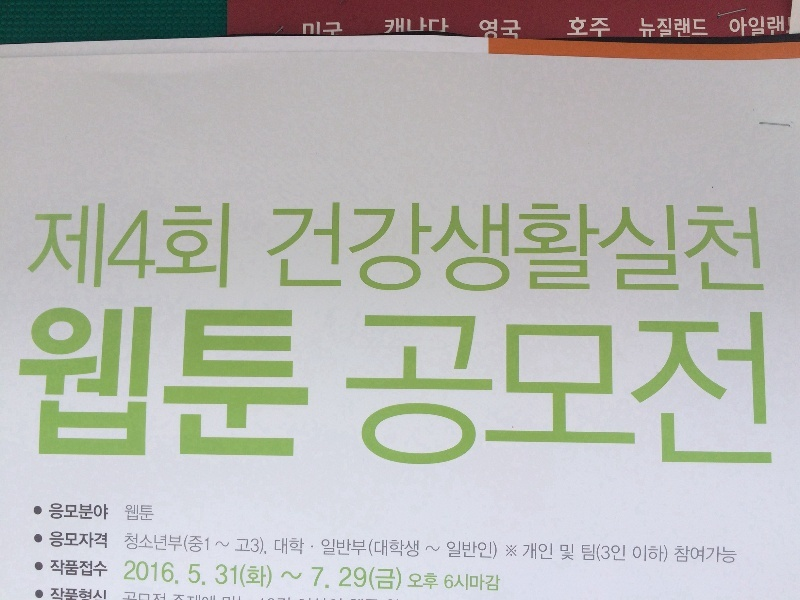text: (353, 311, 368, 476), (369, 311, 384, 476), (385, 311, 400, 476), (401, 311, 416, 476), (417, 311, 432, 476), (433, 311, 448, 476), (449, 311, 464, 476), (465, 311, 480, 476), (481, 311, 496, 476), (497, 311, 512, 476), (513, 311, 528, 476), (529, 311, 544, 476), (545, 311, 560, 476), (561, 311, 576, 476), (577, 311, 592, 476), (593, 311, 608, 476), (609, 311, 624, 476), (625, 311, 640, 476), (641, 311, 656, 476), (657, 311, 672, 476), (673, 311, 688, 476), (689, 311, 704, 476), (705, 311, 720, 476), (721, 311, 736, 476), (737, 311, 752, 476), (753, 311, 768, 476), (33, 305, 48, 461), (49, 305, 64, 461), (65, 305, 80, 461), (81, 305, 96, 461), (97, 305, 112, 461), (113, 305, 128, 461), (129, 305, 144, 461), (145, 305, 160, 461), (161, 305, 176, 461), (177, 305, 192, 461), (193, 305, 208, 461), (209, 305, 224, 461), (225, 305, 240, 461), (241, 305, 256, 461), (257, 305, 272, 461), (273, 305, 288, 461), (289, 305, 304, 461), (769, 311, 779, 476), (273, 201, 288, 298), (289, 201, 304, 298), (305, 201, 320, 298), (321, 201, 336, 298), (337, 201, 352, 298), (353, 201, 368, 298), (369, 201, 384, 298), (385, 201, 400, 298), (401, 201, 416, 298), (417, 201, 432, 298), (433, 201, 448, 298), (449, 201, 464, 298), (465, 201, 480, 298), (481, 201, 496, 298), (497, 201, 512, 298), (513, 201, 528, 298), (529, 201, 544, 298), (545, 201, 560, 298), (561, 201, 576, 298), (577, 201, 592, 298), (593, 201, 608, 298), (609, 201, 624, 298), (625, 201, 640, 298), (641, 201, 656, 298), (657, 201, 672, 298), (673, 201, 688, 298), (689, 201, 704, 298), (705, 201, 720, 298), (721, 201, 736, 298), (737, 201, 752, 298), (23, 305, 32, 461), (753, 201, 767, 298), (49, 202, 64, 292), (65, 202, 80, 292), (81, 202, 96, 292), (97, 202, 112, 292), (113, 202, 128, 292), (129, 202, 144, 292), (145, 202, 160, 292), (161, 202, 176, 292), (177, 202, 192, 292), (193, 202, 208, 292), (209, 202, 224, 292), (305, 305, 312, 461), (36, 202, 48, 292), (225, 202, 232, 292), (266, 201, 272, 298), (129, 560, 144, 587), (145, 560, 160, 587), (161, 560, 176, 587), (177, 560, 192, 587), (321, 565, 336, 592), (337, 565, 352, 592), (353, 565, 368, 592), (369, 565, 384, 592), (385, 565, 400, 592), (769, 15, 785, 40), (481, 17, 496, 43), (497, 17, 512, 43), (225, 564, 240, 589), (241, 564, 256, 589), (257, 564, 272, 589), (577, 16, 592, 41), (593, 16, 608, 41), (641, 16, 656, 41), (657, 16, 672, 41), (673, 16, 688, 41), (689, 16, 704, 41), (737, 15, 752, 40), (753, 15, 768, 40), (193, 560, 206, 587), (369, 539, 384, 561), (385, 539, 400, 561), (401, 539, 416, 561), (417, 539, 432, 561), (433, 539, 448, 561), (449, 539, 464, 561), (465, 539, 480, 561), (481, 539, 496, 561), (193, 534, 208, 556), (209, 534, 224, 556), (225, 534, 240, 556), (241, 534, 256, 556), (65, 559, 80, 579), (81, 559, 96, 579), (609, 544, 624, 564), (625, 544, 640, 564), (641, 544, 656, 564), (129, 533, 144, 553), (145, 533, 160, 553), (161, 533, 176, 553), (689, 547, 704, 567), (705, 547, 720, 567), (721, 547, 736, 567), (65, 531, 80, 550), (81, 531, 96, 550), (49, 502, 64, 521), (65, 502, 80, 521), (81, 502, 96, 521), (385, 16, 400, 35), (401, 16, 416, 35), (417, 16, 432, 35), (433, 16, 448, 35), (129, 504, 144, 522), (417, 572, 432, 590), (449, 574, 464, 592), (465, 574, 480, 592), (481, 574, 496, 592), (321, 539, 336, 557), (337, 539, 352, 557), (289, 538, 304, 556), (50, 531, 64, 550), (51, 559, 64, 579), (529, 544, 544, 561), (561, 544, 576, 561), (577, 544, 592, 561), (305, 20, 320, 37), (321, 20, 336, 37), (353, 539, 367, 557), (274, 538, 288, 556), (97, 502, 109, 521), (567, 16, 576, 41), (97, 559, 108, 579), (597, 544, 608, 564), (657, 544, 668, 564), (257, 534, 267, 556), (677, 547, 688, 567), (312, 565, 320, 592), (65, 586, 80, 600), (81, 586, 96, 600), (97, 586, 112, 600), (113, 586, 128, 600), (129, 586, 144, 600), (145, 586, 160, 600), (161, 586, 176, 600), (177, 586, 192, 600), (193, 586, 208, 600), (209, 586, 224, 600), (225, 586, 240, 600), (97, 531, 108, 550), (513, 17, 521, 43), (216, 564, 224, 589), (51, 586, 64, 600), (184, 534, 192, 556), (729, 15, 736, 40), (145, 504, 154, 522), (408, 572, 416, 590), (545, 544, 553, 561), (177, 533, 183, 553), (337, 20, 344, 37), (289, 572, 302, 581), (433, 572, 439, 590), (522, 544, 528, 561), (705, 16, 709, 41), (125, 560, 128, 587), (124, 504, 128, 522), (280, 572, 288, 581), (444, 574, 448, 592), (497, 574, 501, 592), (125, 533, 128, 553), (593, 544, 596, 561), (301, 20, 304, 37), (609, 16, 611, 41), (638, 16, 640, 41), (241, 586, 244, 600), (401, 565, 402, 592), (479, 17, 480, 43), (497, 539, 498, 561), (449, 16, 450, 35)
